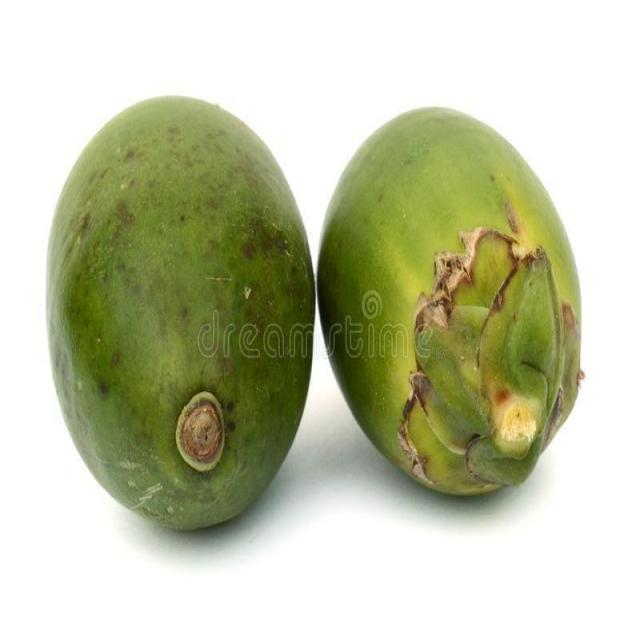good: (45, 95, 317, 537), (315, 107, 584, 500)
